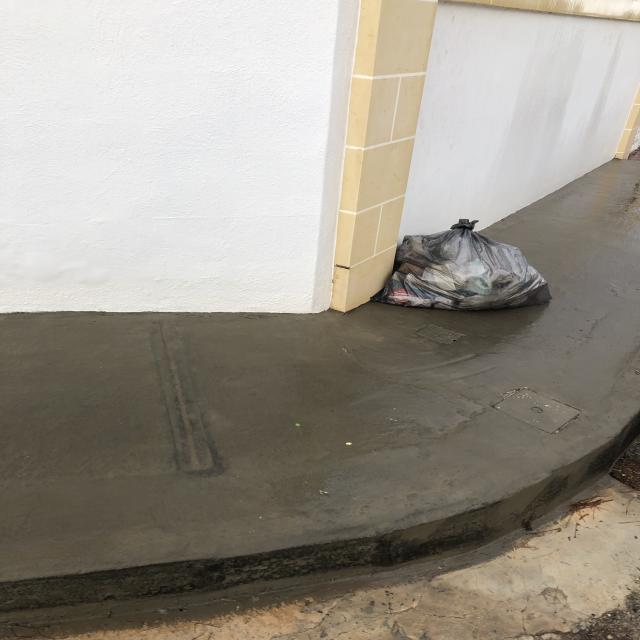Other: (374, 220, 553, 312)
